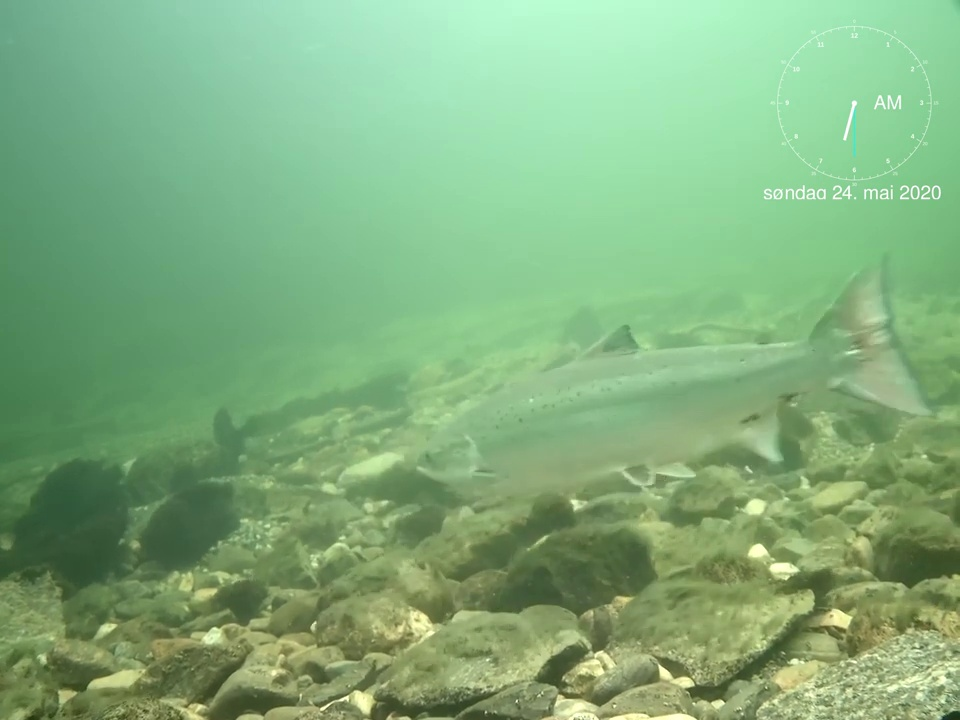salmon: (411, 248, 936, 502)
